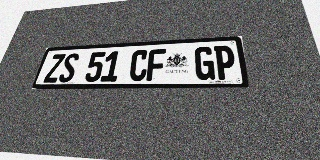1: (100, 51, 122, 82)
5: (84, 52, 106, 82)
C: (128, 49, 149, 81)
F: (146, 49, 166, 81)
G: (195, 46, 215, 80)
P: (214, 45, 237, 80)
S: (58, 53, 80, 82)
Z: (43, 54, 66, 83)
